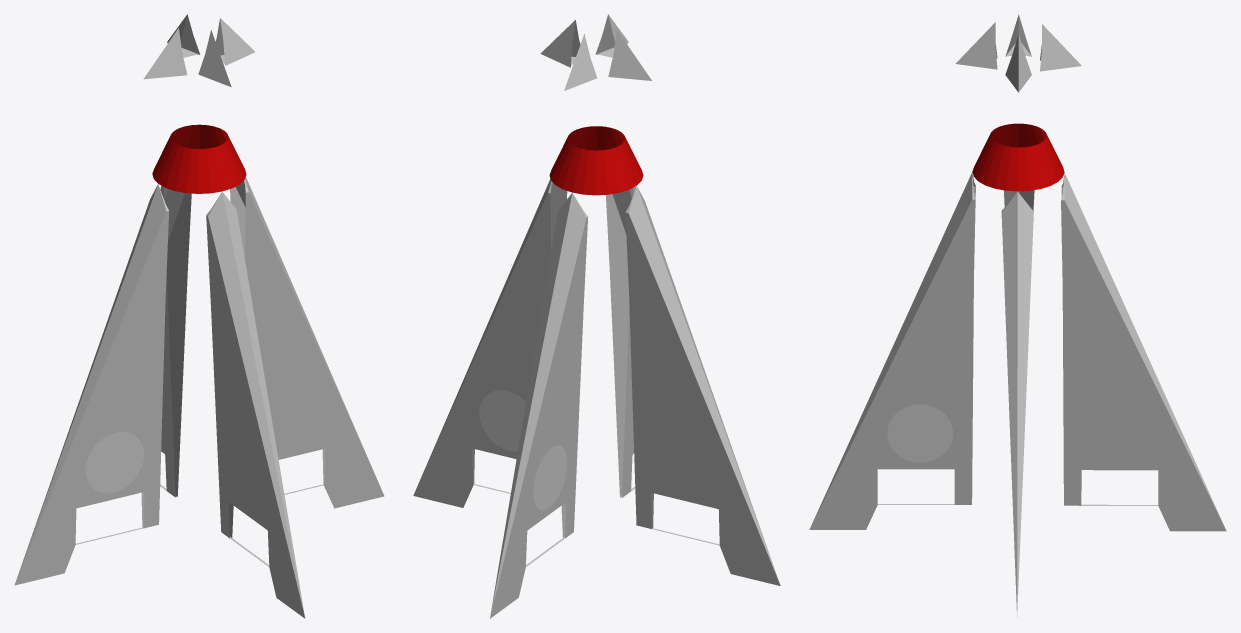
The model's file is missile2.obj.
3 views of the same model, side by side, from view 1: azimuth 30°, elevation 25°; view 2: azimuth 150°, elevation 25°; view 3: azimuth 270°, elevation 25° (orthographic). The views are drawn at different scales.
Visible parts, largest first — view 1: group_4.004_ID35, group_5.004_ID62, group_7.004_ID112, group_6.004_ID87, group_8.018_ID137, group_2.001_ID21, group_1.001_ID14, group_3.001_ID28, group_0.001_ID5; view 2: group_4.004_ID35, group_6.004_ID87, group_7.004_ID112, group_5.004_ID62, group_8.018_ID137, group_2.001_ID21, group_1.001_ID14, group_0.001_ID5, group_3.001_ID28; view 3: group_6.004_ID87, group_5.004_ID62, group_7.004_ID112, group_8.018_ID137, group_3.001_ID28, group_0.001_ID5, group_1.001_ID14.
Part boxes in pixels (x1,y1,x2,y2): group_4.004_ID35: (14,184,169,585); group_5.004_ID62: (206,191,305,618); group_7.004_ID112: (230,177,384,508); group_6.004_ID87: (160,186,191,497); group_8.018_ID137: (152,124,246,193); group_2.001_ID21: (143,28,187,79); group_1.001_ID14: (215,18,254,65); group_3.001_ID28: (198,30,231,87); group_0.001_ID5: (167,14,200,57); group_4.004_ID35: (625,186,780,585); group_6.004_ID87: (490,193,588,618); group_7.004_ID112: (413,179,567,507); group_5.004_ID62: (606,186,635,497); group_8.018_ID137: (549,126,643,195); group_2.001_ID21: (608,30,651,80); group_1.001_ID14: (540,20,580,67); group_0.001_ID5: (564,33,596,90); group_3.001_ID28: (595,14,628,57); group_6.004_ID87: (1061,173,1226,531); group_5.004_ID62: (809,172,975,529); group_7.004_ID112: (1001,191,1033,617); group_8.018_ID137: (972,123,1064,191); group_3.001_ID28: (955,22,997,69); group_0.001_ID5: (1040,24,1081,71); group_1.001_ID14: (1005,34,1031,92).
Size of the model in its own units: 0.3531 by 0.4751 by 0.3531.
